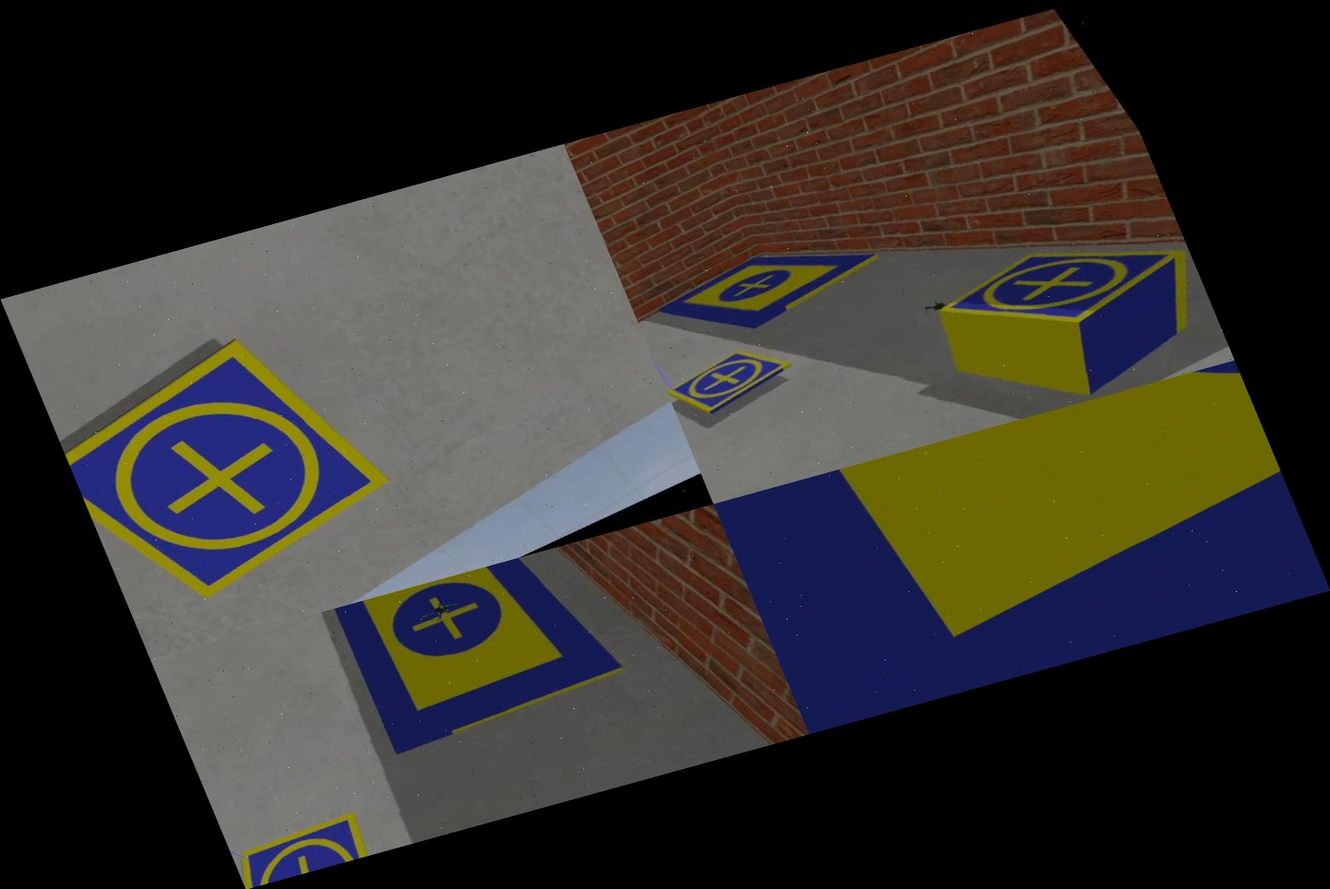large_base: (714, 360, 1330, 733), (295, 541, 646, 784), (635, 207, 901, 362)
small_base: (36, 305, 426, 630), (911, 192, 1211, 373), (224, 796, 396, 888), (657, 331, 813, 428)
